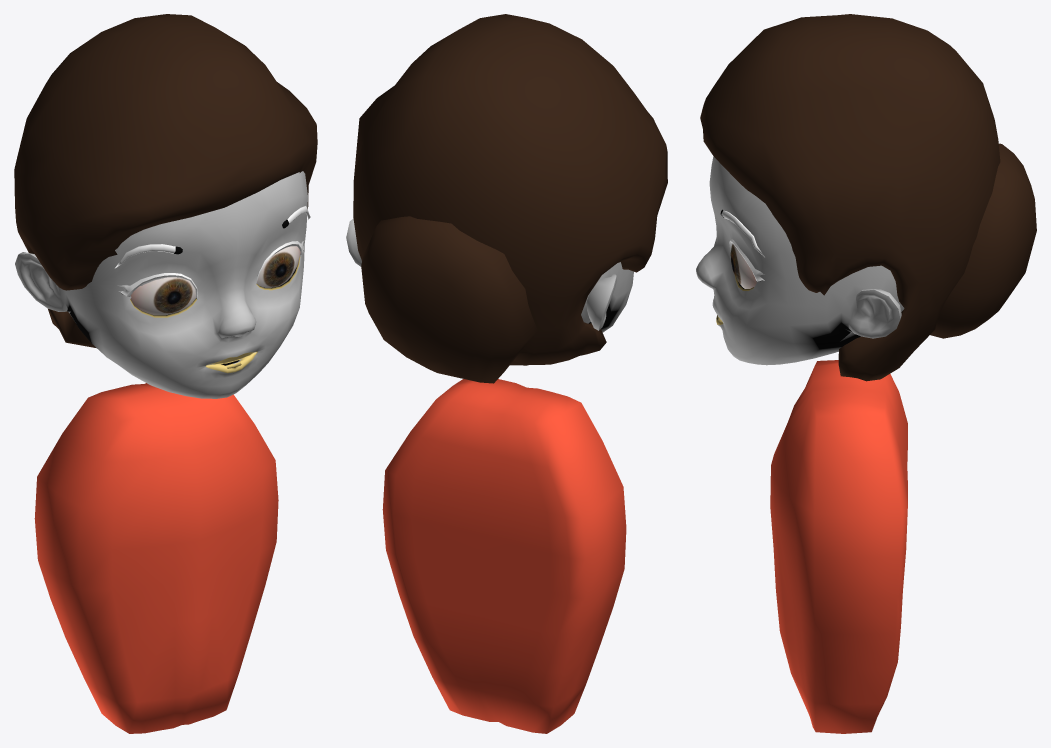
The model's file is VR Avatar Guru1.fbx.
3 views of the same model, side by side, from view 1: azimuth 30°, elevation 25°; view 2: azimuth 150°, elevation 25°; view 3: azimuth 270°, elevation 25° (orthographic).
Parts seen in each view (by area): view 1: Cube, rambut, muka, moto kiri.003, moto kanan.003, bulumata, alis; view 2: rambut, Cube, muka; view 3: rambut, Cube, muka, moto kanan.003.
Part boxes in pixels (x1,y1,x2,y2): Cube: (34,383,278,733); rambut: (14,14,317,347); muka: (15,171,307,398); moto kiri.003: (130,277,195,315); moto kanan.003: (256,246,300,287); bulumata: (117,240,304,297); alis: (115,206,310,268); rambut: (353,14,667,383); Cube: (382,379,626,733); muka: (346,218,633,332); rambut: (700,14,1036,381); Cube: (770,360,907,733); muka: (696,156,904,365); moto kanan.003: (730,243,756,288).
Size of the model in its own units: 86.8 by 209 by 92.66.
